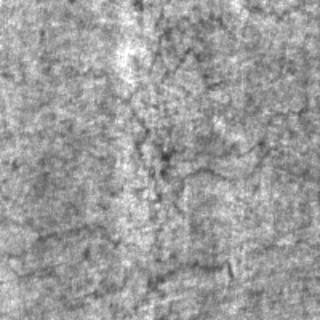crazing: (123, 29, 283, 208), (4, 185, 232, 308)
